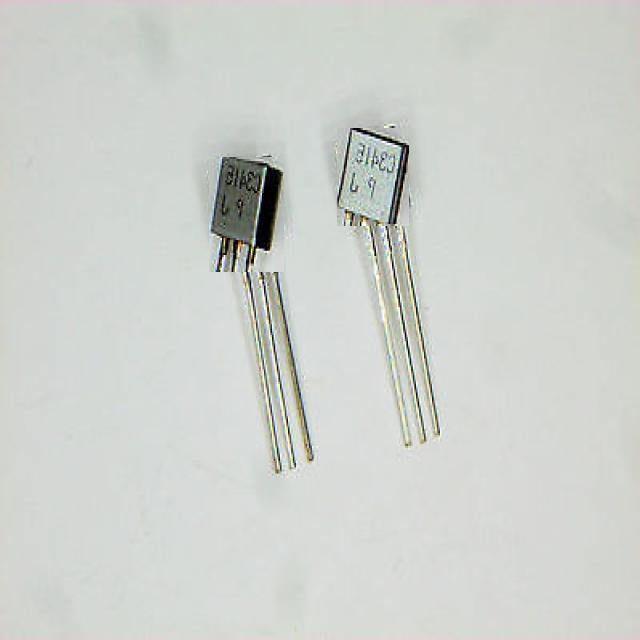Transistor: (203, 131, 349, 492), (324, 115, 469, 461)
